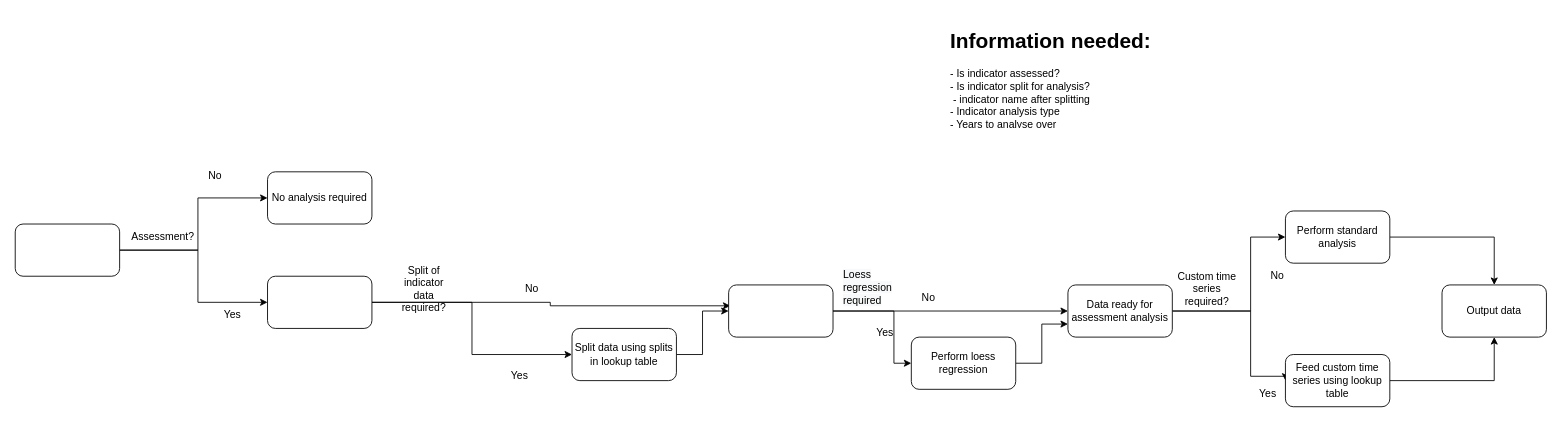
Some shapes in this 1562 by 422 pixel diagram are drawn without their labels. Here are the shapes that lost their labels. From the top down, the centre of each, then its label:
At pixel 67 249: "Input data".
At pixel 319 301: "Perform assessment analysis".
At pixel 780 310: "Indicator data ready".
